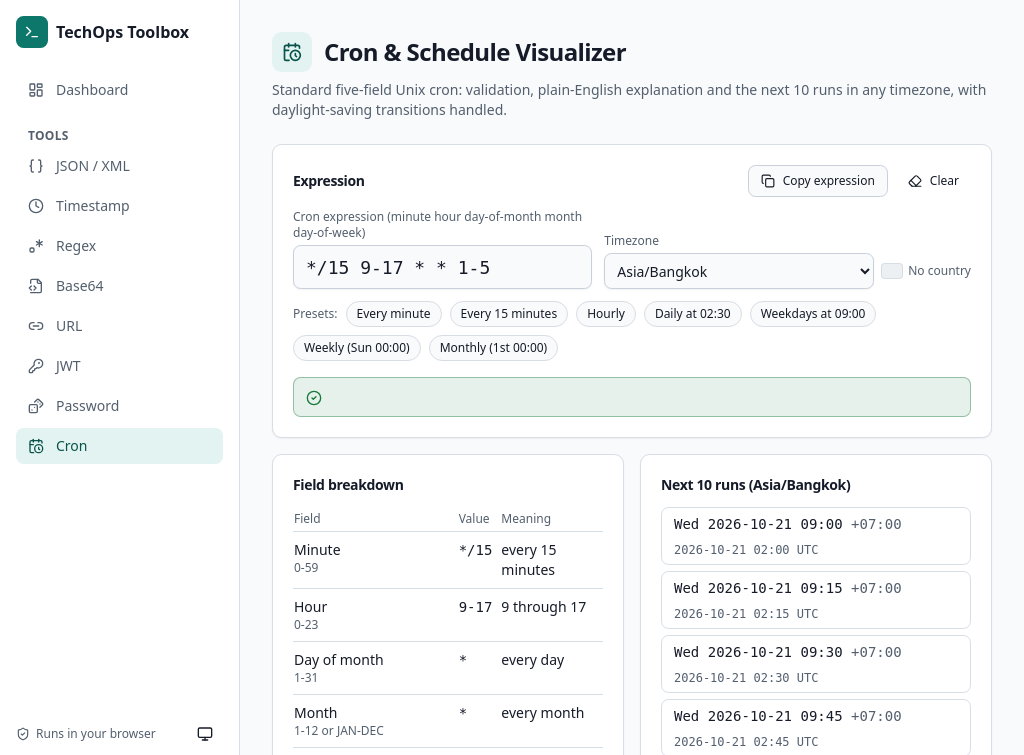
Test: Cron page › rejects unsupported Quartz syntax with an error
The image size is (1024, 755).
Step 1. Replace the text in the field labelled "Cron expression" with "0 0 12 * * ?" → [443, 267], box [293,245,592,289]
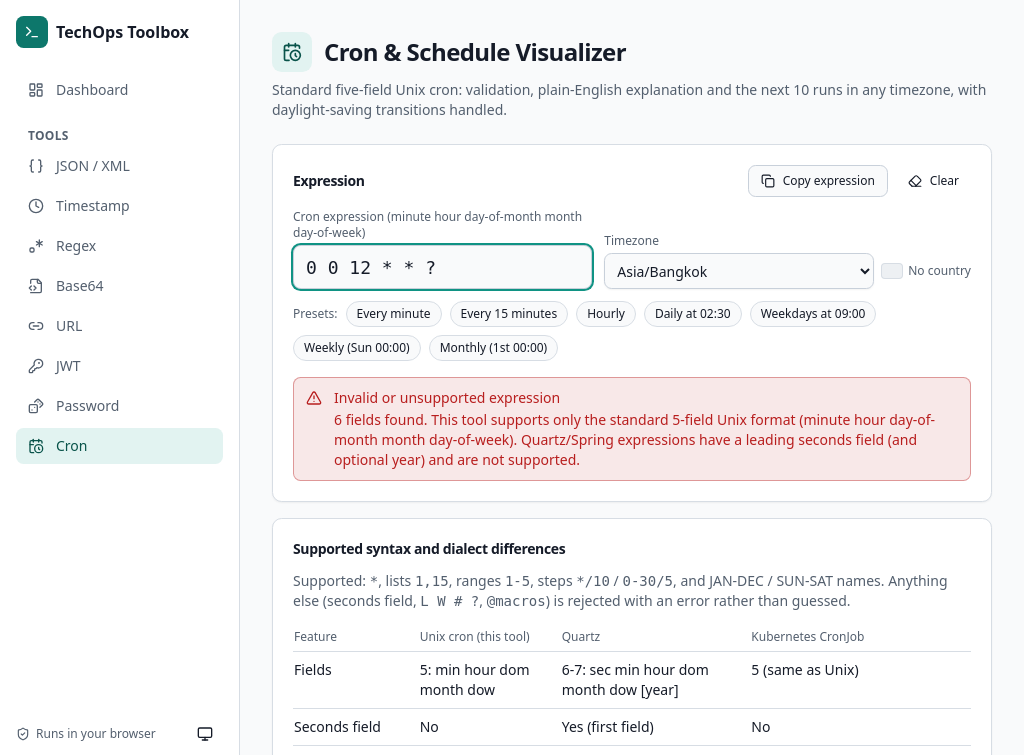
Now the message shows "Quartz", box [334,410,935,469]
